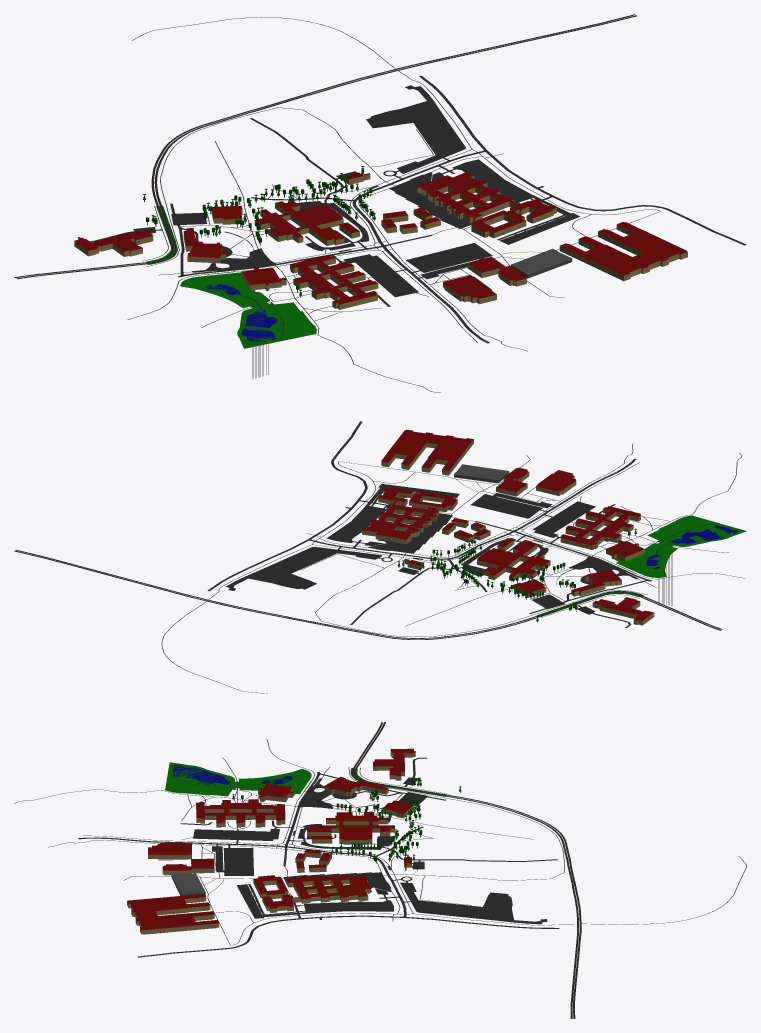
Rendered from LTH_upd.obj.
3 renders of one model, top to bottom at view 1: azimuth 30°, elevation 25°; view 2: azimuth 150°, elevation 25°; view 3: azimuth 270°, elevation 25°, orthographic. The views are drawn at different scales.
Visible parts, largest first — view 1: Building_Sparta, Building_E-huset, SurfaceParking_Ideon_Beta_Parking, Building_Ideon_Alfa_3-6_/_Ideon_Agora, Building_V-huset, SurfaceArea1154, SurfaceParking1158, SurfaceParking1161, Building_Biologihuset, SurfaceParking1170, RoadArea1152, Building1153 (+9 smaller); view 2: Building_Sparta, Building_E-huset, Building_Ideon_Alfa_3-6_/_Ideon_Agora, SurfaceParking_Ideon_Beta_Parking, Building_V-huset, SurfaceArea1154, SurfaceParking1158, SurfaceParking1161, RoadArea1152, Building_Biologihuset, SurfaceParking1170, Building_Kårhuset (+8 smaller); view 3: Building_Sparta, SurfaceParking_Ideon_Beta_Parking, Building_Ideon_Alfa_3-6_/_Ideon_Agora, Building_V-huset, Building_E-huset, SurfaceArea1154, SurfaceParking1158, SurfaceParking1161, SurfaceParking1170, Building_Biologihuset, Building_Kårhuset, Building1153 (+7 smaller).
Part boxes in pixels (bbox=[...]): Building_Sparta: bbox=[559, 221, 687, 281]; Building_E-huset: bbox=[290, 255, 378, 309]; SurfaceParking_Ideon_Beta_Parking: bbox=[366, 85, 465, 173]; Building_Ideon_Alfa_3-6_/_Ideon_Agora: bbox=[416, 172, 514, 223]; Building_V-huset: bbox=[254, 201, 344, 245]; SurfaceArea1154: bbox=[200, 280, 316, 348]; SurfaceParking1158: bbox=[452, 159, 579, 244]; SurfaceParking1161: bbox=[406, 243, 492, 279]; Building_Biologihuset: bbox=[74, 230, 153, 256]; SurfaceParking1170: bbox=[343, 254, 418, 297]; RoadArea1152: bbox=[389, 172, 471, 228]; Building1153: bbox=[443, 275, 496, 304]; Building_Sparta: bbox=[381, 429, 473, 475]; Building_E-huset: bbox=[560, 506, 640, 549]; Building_Ideon_Alfa_3-6_/_Ideon_Agora: bbox=[362, 504, 439, 543]; SurfaceParking_Ideon_Beta_Parking: bbox=[226, 546, 382, 590]; Building_V-huset: bbox=[477, 540, 550, 581]; SurfaceArea1154: bbox=[639, 515, 746, 570]; SurfaceParking1158: bbox=[326, 484, 459, 542]; SurfaceParking1161: bbox=[471, 493, 551, 518]; RoadArea1152: bbox=[368, 513, 452, 553]; Building_Biologihuset: bbox=[592, 597, 654, 625]; SurfaceParking1170: bbox=[533, 501, 595, 537]; Building_Kårhuset: bbox=[571, 569, 621, 596]; Building_Sparta: bbox=[127, 894, 219, 934]; SurfaceParking_Ideon_Beta_Parking: bbox=[400, 882, 547, 924]; Building_Ideon_Alfa_3-6_/_Ideon_Agora: bbox=[286, 875, 370, 903]; Building_V-huset: bbox=[307, 812, 394, 844]; Building_E-huset: bbox=[196, 799, 285, 827]; SurfaceArea1154: bbox=[165, 762, 297, 791]; SurfaceParking1158: bbox=[236, 884, 393, 918]; SurfaceParking1161: bbox=[212, 846, 253, 875]; SurfaceParking1170: bbox=[193, 829, 279, 840]; Building_Biologihuset: bbox=[373, 748, 415, 780]; Building_Kårhuset: bbox=[324, 776, 388, 796]; Building1153: bbox=[148, 843, 191, 859].
Bounding box in the file's own units: 1067 × 110 × 1113.
